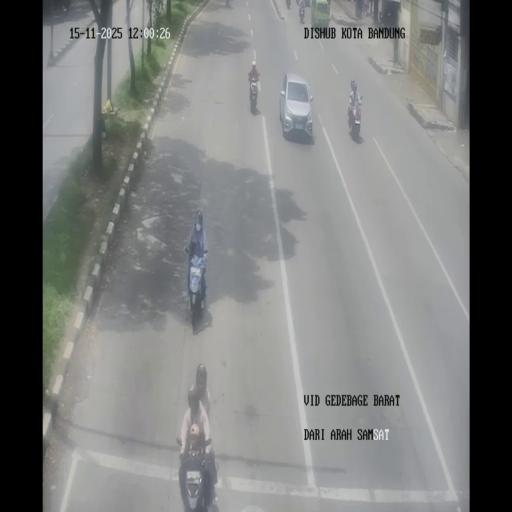car: (280, 70, 314, 139), (310, 0, 330, 27)
motorcycle: (177, 436, 216, 512), (185, 244, 208, 329), (347, 90, 362, 138), (248, 73, 260, 113), (298, 1, 305, 24), (362, 0, 369, 17), (378, 10, 384, 23), (285, 0, 291, 9)
